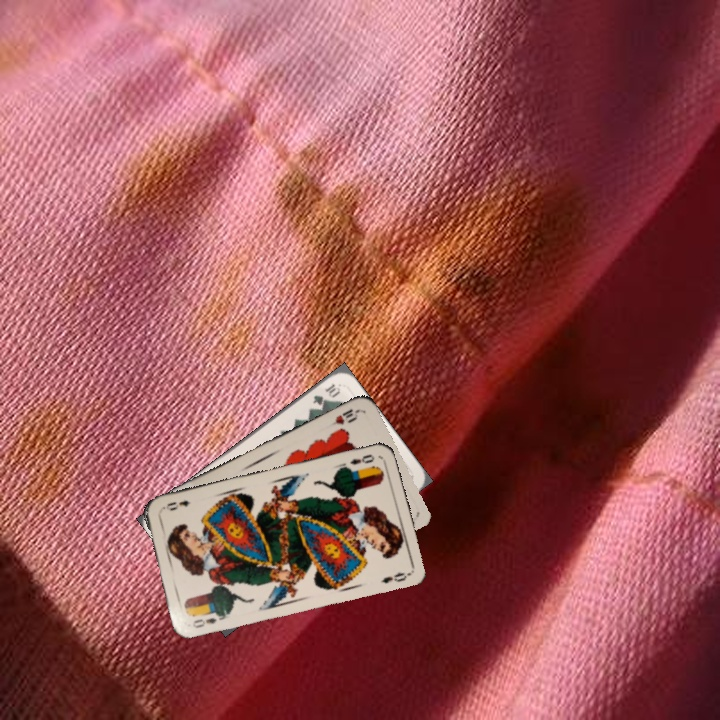EO: (188, 608, 226, 631), (346, 450, 377, 467)
G10: (309, 379, 343, 408)
H10: (324, 405, 361, 430)
